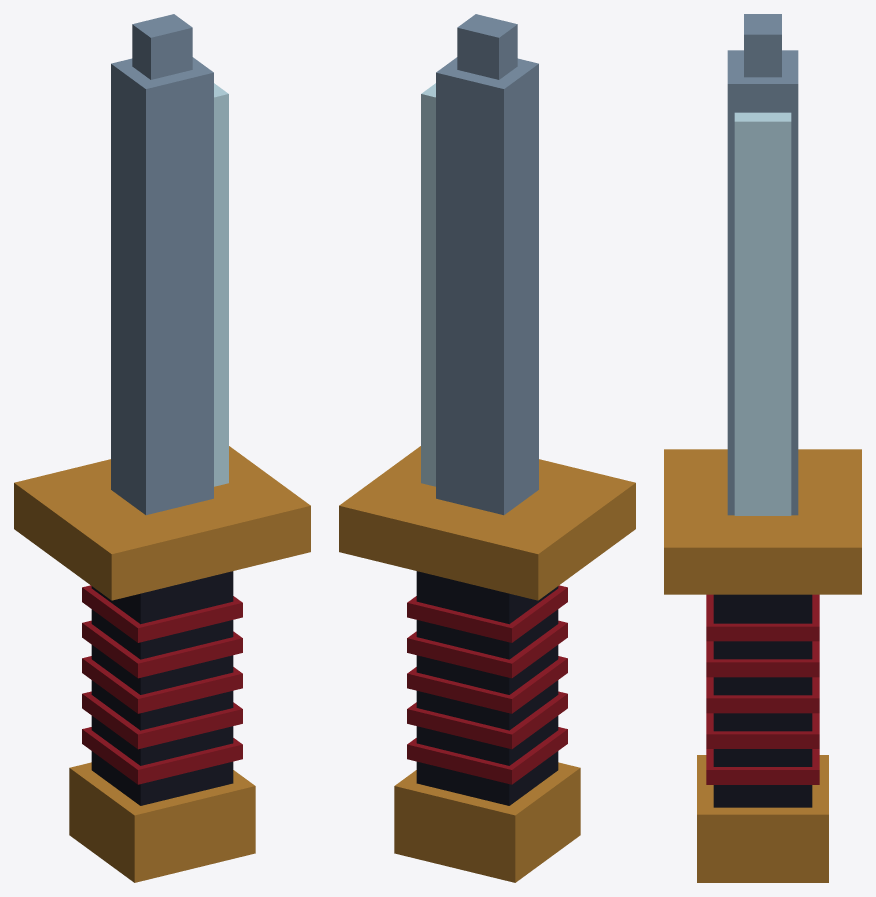
File: weapon_KGB_WPN_Tanto_Default_DRAFT_v01.glb
3 renders of one model, left to right at view 1: azimuth 30°, elevation 25°; view 2: azimuth 150°, elevation 25°; view 3: azimuth 270°, elevation 25°, orthographic.
Parts seen in each view (by area): view 1: KGB_WPN_Tanto_Default_DRAFT_v01; view 2: KGB_WPN_Tanto_Default_DRAFT_v01; view 3: KGB_WPN_Tanto_Default_DRAFT_v01.
Part boxes in pixels (x1=…): KGB_WPN_Tanto_Default_DRAFT_v01: x1=14, y1=14, x2=310, y2=882; KGB_WPN_Tanto_Default_DRAFT_v01: x1=339, y1=14, x2=635, y2=882; KGB_WPN_Tanto_Default_DRAFT_v01: x1=664, y1=14, x2=861, y2=882.
Bounding box in the file's own units: 0.494 × 1.94 × 0.42.
